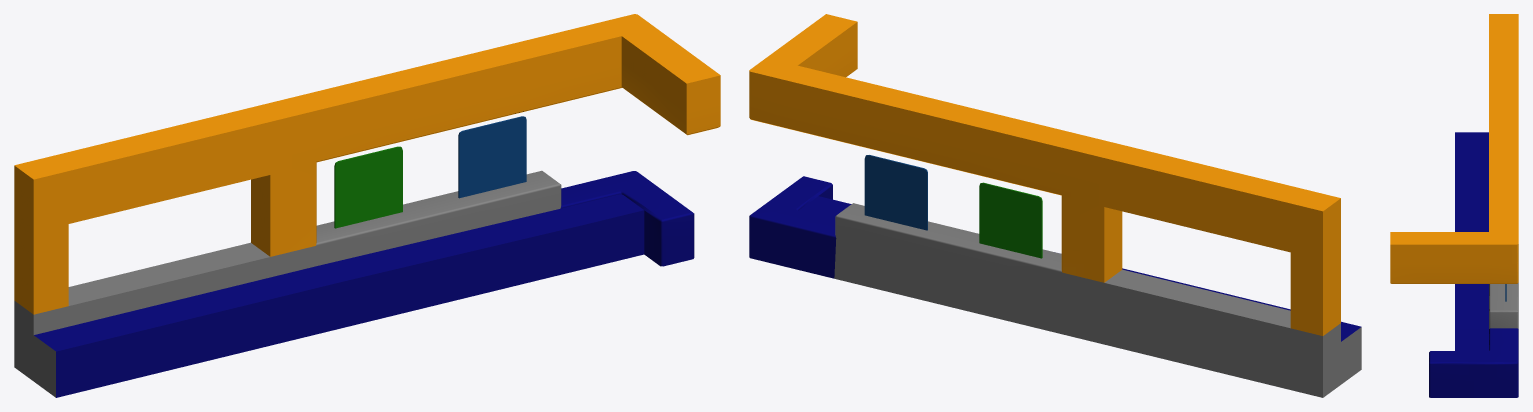
File: recepción.fbx
The picture shows the model from 3 angles, left to right: view 1: azimuth 30°, elevation 25°; view 2: azimuth 150°, elevation 25°; view 3: azimuth 270°, elevation 25°; orthographic projection. The views are drawn at different scales.
Visible parts, largest first — view 1: Recepción; view 2: Recepción; view 3: Recepción.
Part boxes in pixels (x1,y1,x2,y2): Recepción: (14,14,720,397); Recepción: (749,14,1361,397); Recepción: (1390,14,1518,397).
Bounding box in the file's own units: 433 × 134 × 102.
